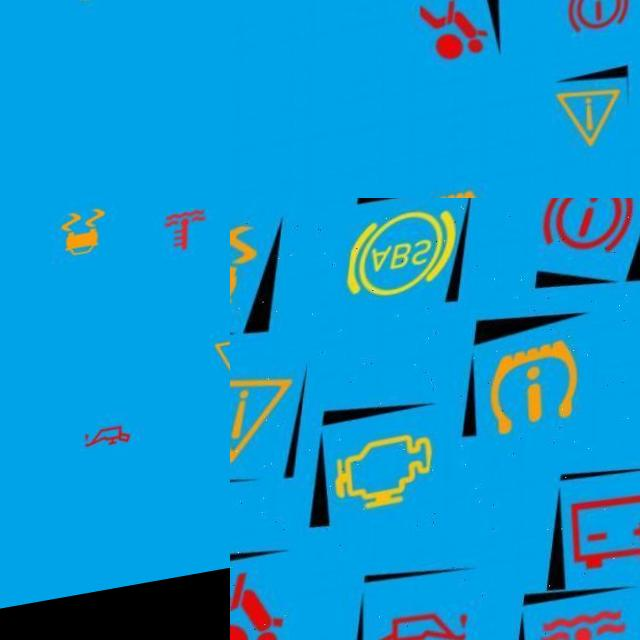High Engine Coolant Temperature: (157, 217, 215, 282)
